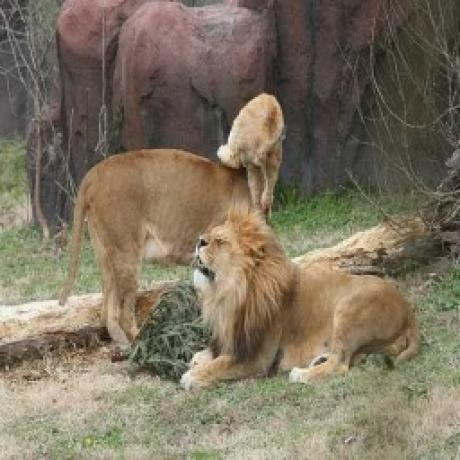Lion: (180, 213, 423, 386)
